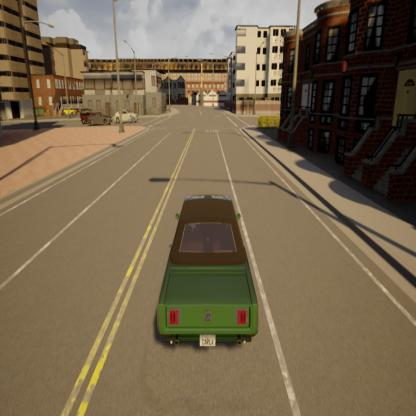Cars: (150, 178, 270, 364), (114, 104, 144, 125), (79, 103, 97, 125), (90, 116, 113, 127), (60, 104, 80, 113)
